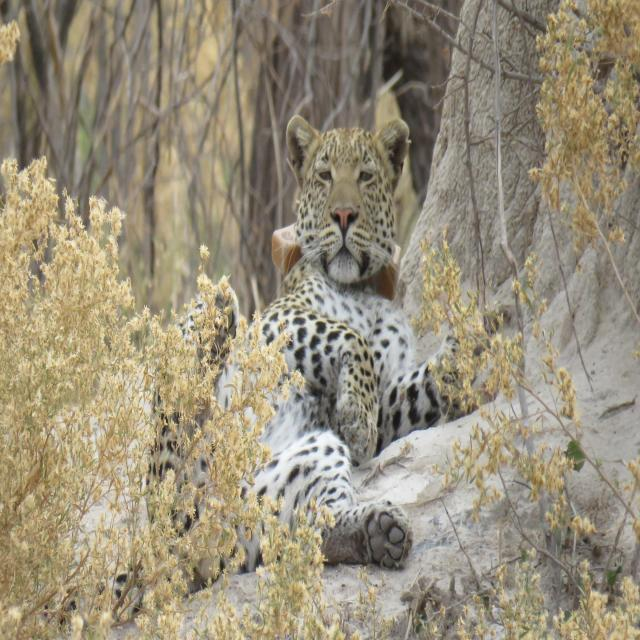Leopard: (50, 105, 513, 609)
